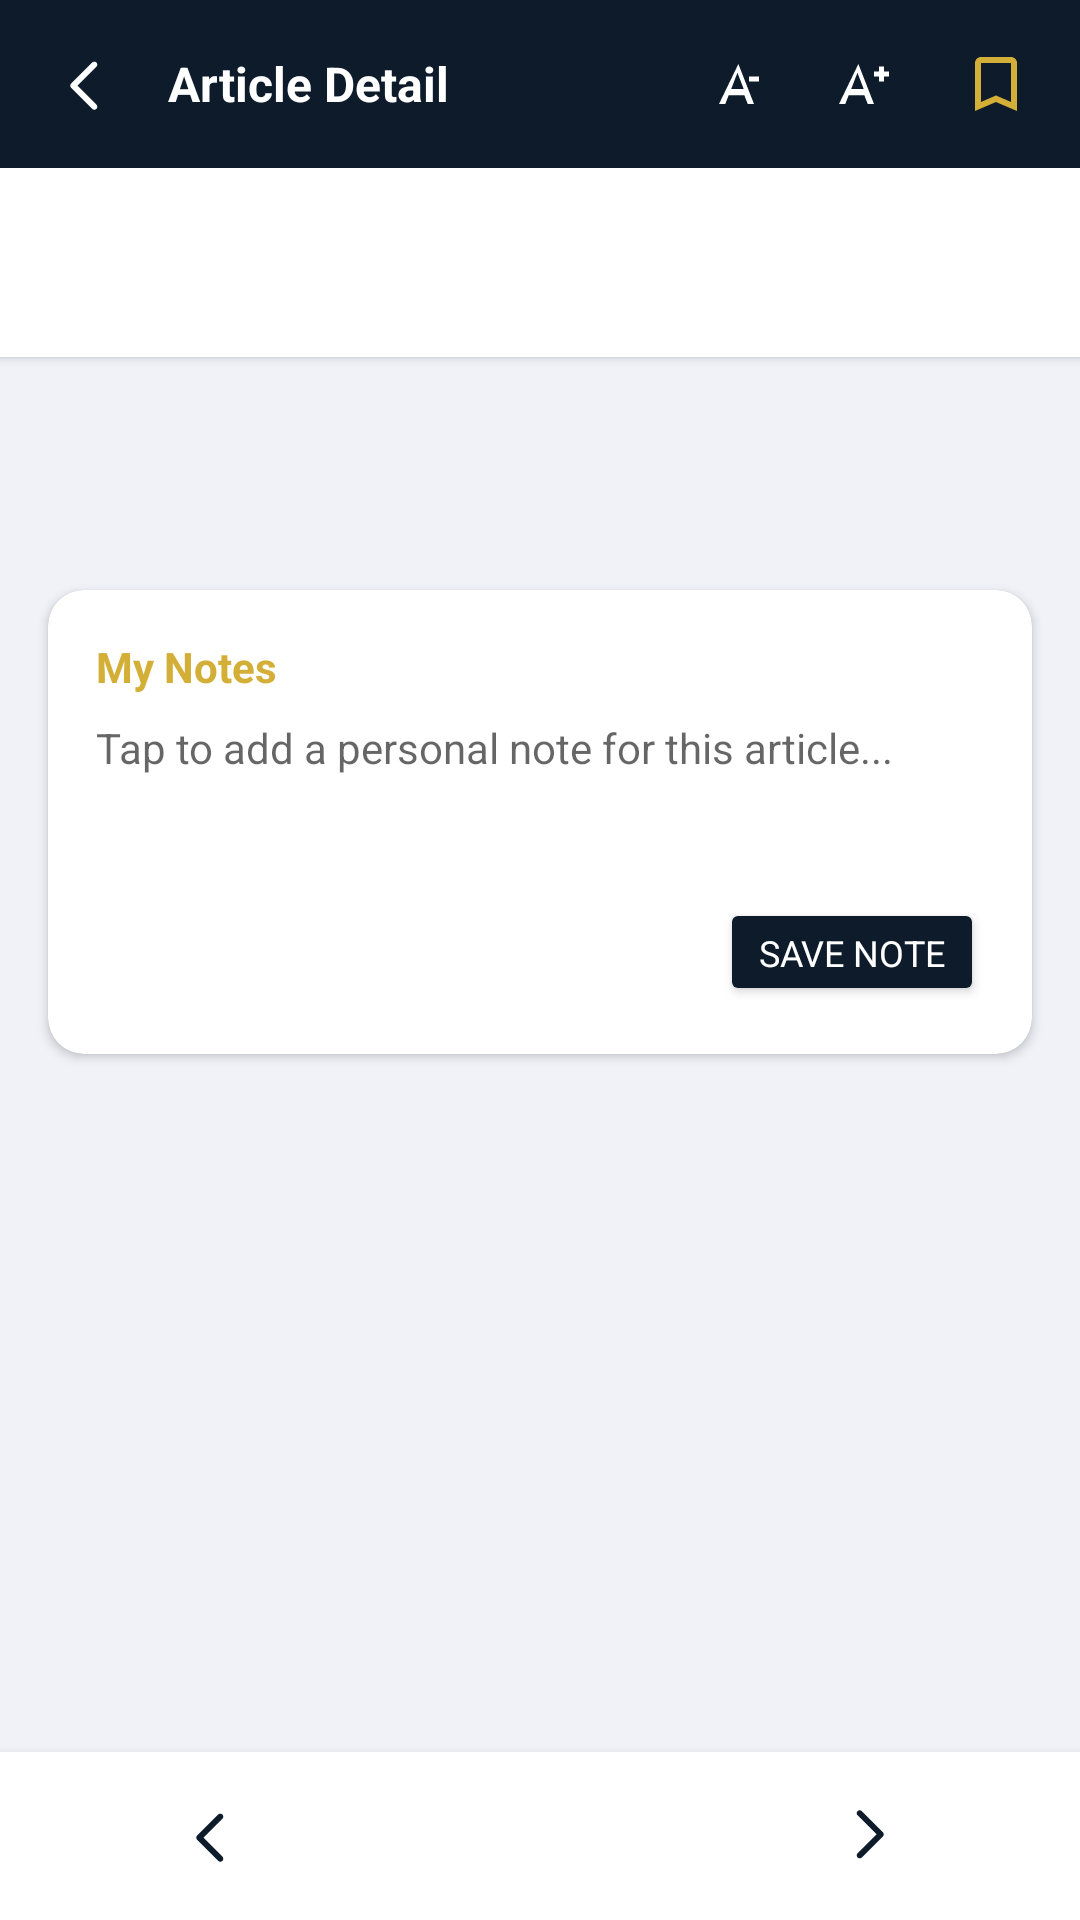

Screen size 1080 x 1920. Icon name, then its center in pixels as (x=x, y=y):
arrow back: (x=84, y=85), (x=210, y=1837)
arrow forward: (x=870, y=1834)
bookmark: (x=996, y=84)
font decrease: (x=739, y=84)
font increase: (x=864, y=84)
